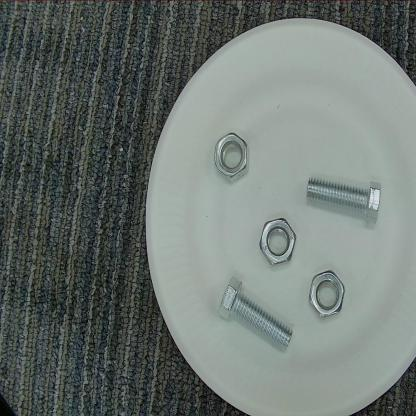FOD: (210, 270, 298, 356), (305, 167, 386, 231), (304, 264, 350, 324), (210, 131, 252, 188), (258, 214, 302, 265)
